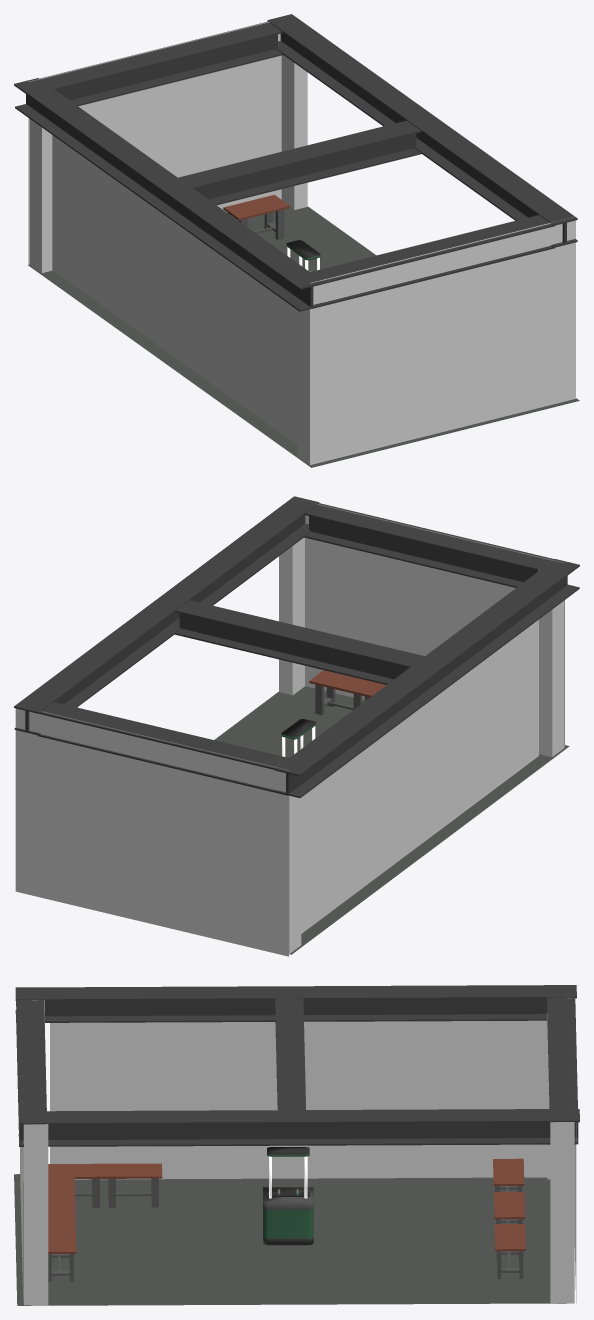
Rendered from escenario_flexion_mader2.gltf.
3 views of the same model, one above another, from view 1: azimuth 30°, elevation 25°; view 2: azimuth 150°, elevation 25°; view 3: azimuth 270°, elevation 25° (orthographic).
Visible parts, largest first — view 1: Vigas_Amarre, ParedFondo, ParedIzquierda.005, ParedDerecha, Piso, Columna3, Columna4, Columna2, Mesa.Lab3; view 2: ParedDerecha, Vigas_Amarre, ParedIzquierda.005, ParedFondo, Piso, Columna2, Columna1, Columna3, Mesa.Lab8; view 3: Piso, ParedIzquierda.005, Vigas_Amarre, Columna1, Columna4, Plane.003, Mesa.Lab4, Mesa.Lab3, Mesa.Lab8, Mesa.Lab5, Mesa.Lab1, Mesa.Lab2 (+5 smaller).
Boxes of the visible parts, <box> form: Vigas_Amarre: <box>14,14,577,311</box>; ParedFondo: <box>310,216,575,464</box>; ParedIzquierda.005: <box>52,135,297,444</box>; ParedDerecha: <box>28,21,281,264</box>; Piso: <box>28,206,579,467</box>; Columna3: <box>29,119,52,272</box>; Columna4: <box>281,55,307,209</box>; Columna2: <box>297,271,311,464</box>; Mesa.Lab3: <box>223,194,290,239</box>; ParedDerecha: <box>15,708,288,956</box>; Vigas_Amarre: <box>14,496,579,798</box>; ParedIzquierda.005: <box>301,619,538,933</box>; ParedFondo: <box>293,498,564,747</box>; Piso: <box>214,686,569,954</box>; Columna2: <box>538,569,564,756</box>; Columna1: <box>279,537,304,695</box>; Columna3: <box>275,766,301,954</box>; Mesa.Lab8: <box>309,670,375,715</box>; Piso: <box>14,1174,573,1305</box>; ParedIzquierda.005: <box>50,1020,547,1179</box>; Vigas_Amarre: <box>15,985,579,1146</box>; Columna1: <box>23,1124,48,1305</box>; Columna4: <box>550,1122,574,1303</box>; Plane.003: <box>263,1187,313,1245</box>; Mesa.Lab4: <box>103,1163,162,1207</box>; Mesa.Lab3: <box>494,1224,525,1278</box>; Mesa.Lab8: <box>48,1226,76,1281</box>; Mesa.Lab5: <box>48,1163,102,1207</box>; Mesa.Lab1: <box>493,1158,524,1191</box>; Mesa.Lab2: <box>493,1192,525,1223</box>.
Size of the model in its own units: 10.6 by 6.51 by 18.2.
